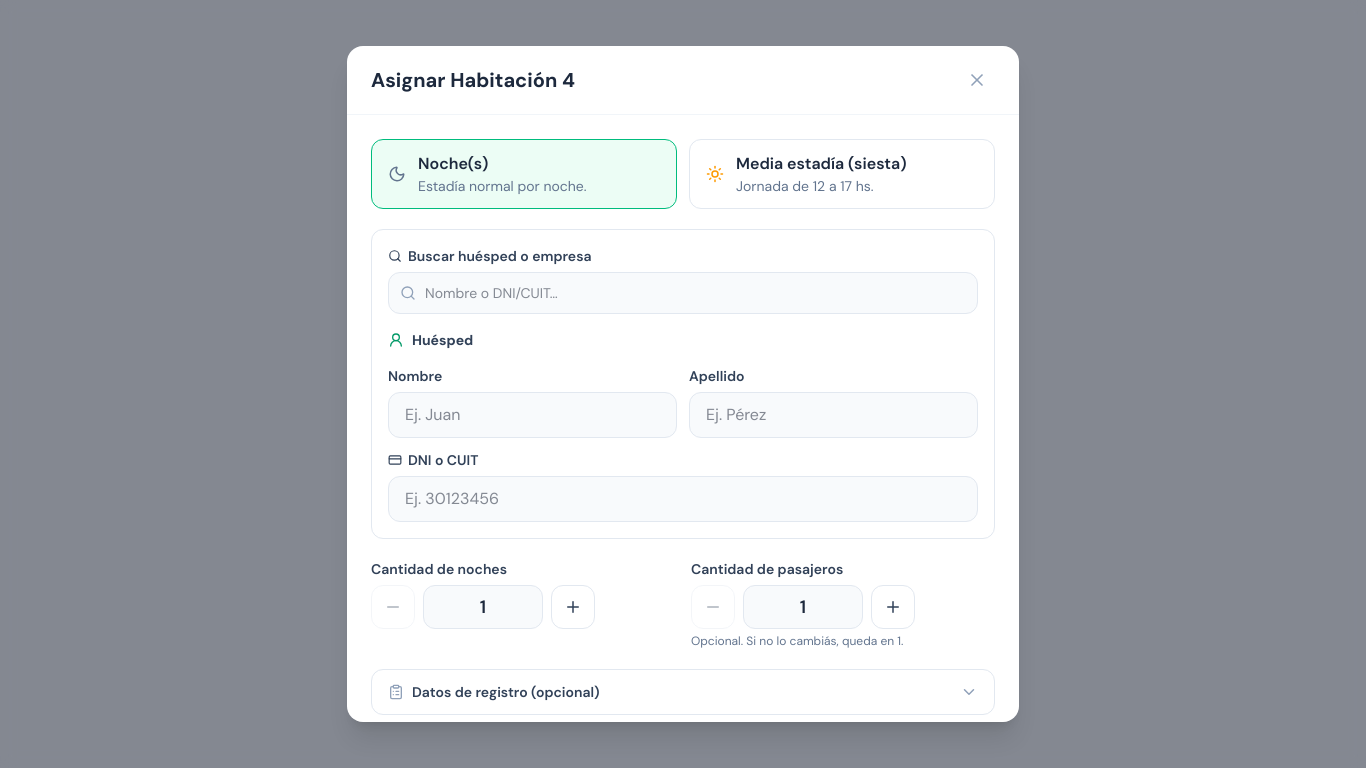
WalkInModal: el botón dice qué falta › si falta solo el DNI, el cursor va al DNI
Type "Juan" into the field labelled "Nombre".
click(532, 415); type("Juan")  # box x1=388 y1=392 x2=677 y2=438
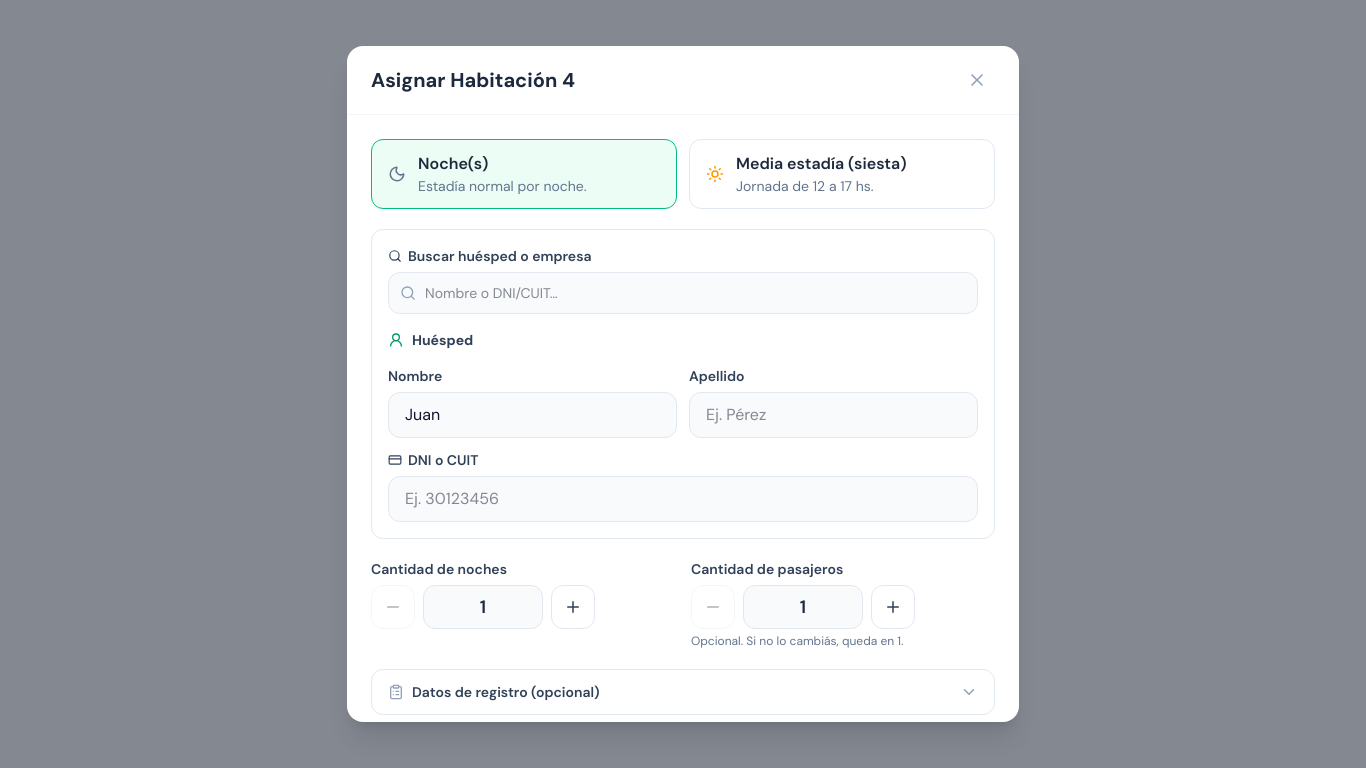
Type "Prueba" into the field labelled "Apellido".
click(834, 415); type("Prueba")  # box x1=689 y1=392 x2=978 y2=438
(page scrolled)
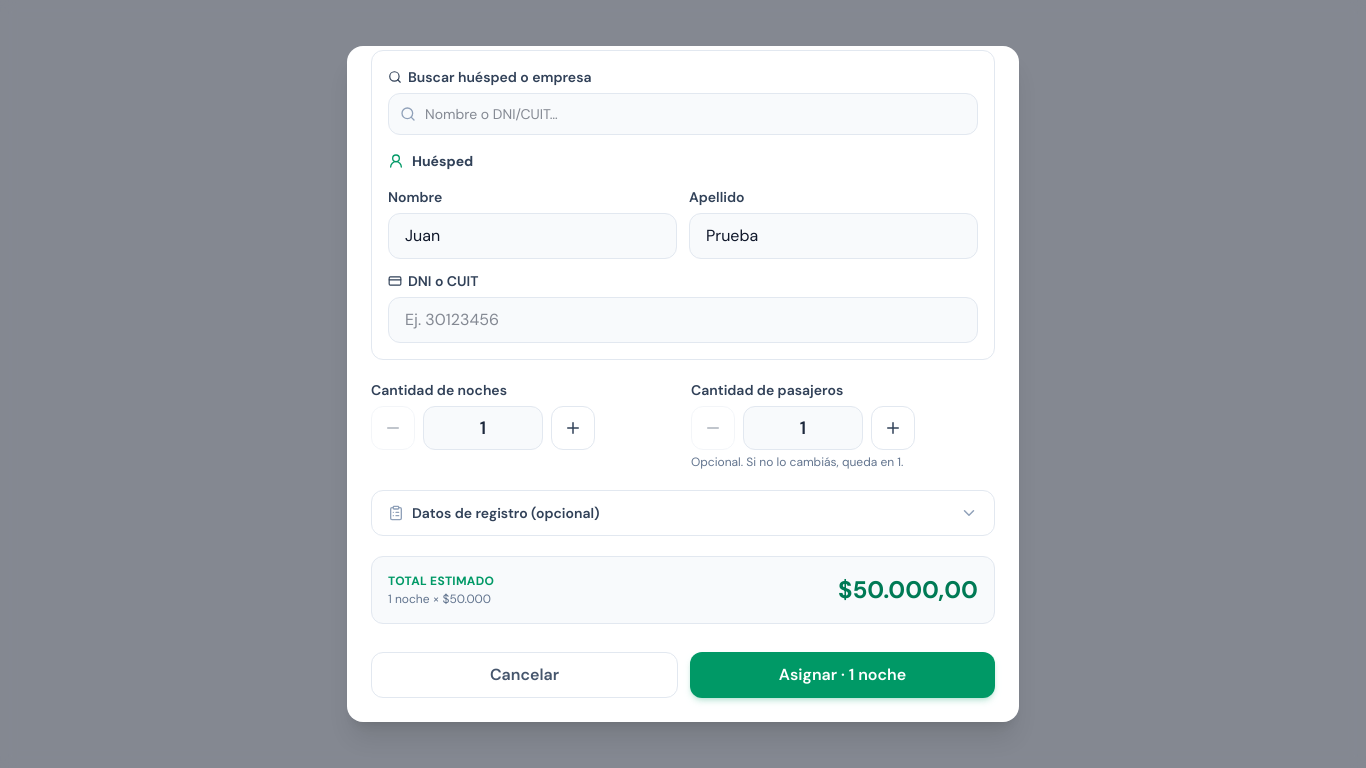
Click the submit button.
click(842, 675)  # box x1=690 y1=652 x2=995 y2=698
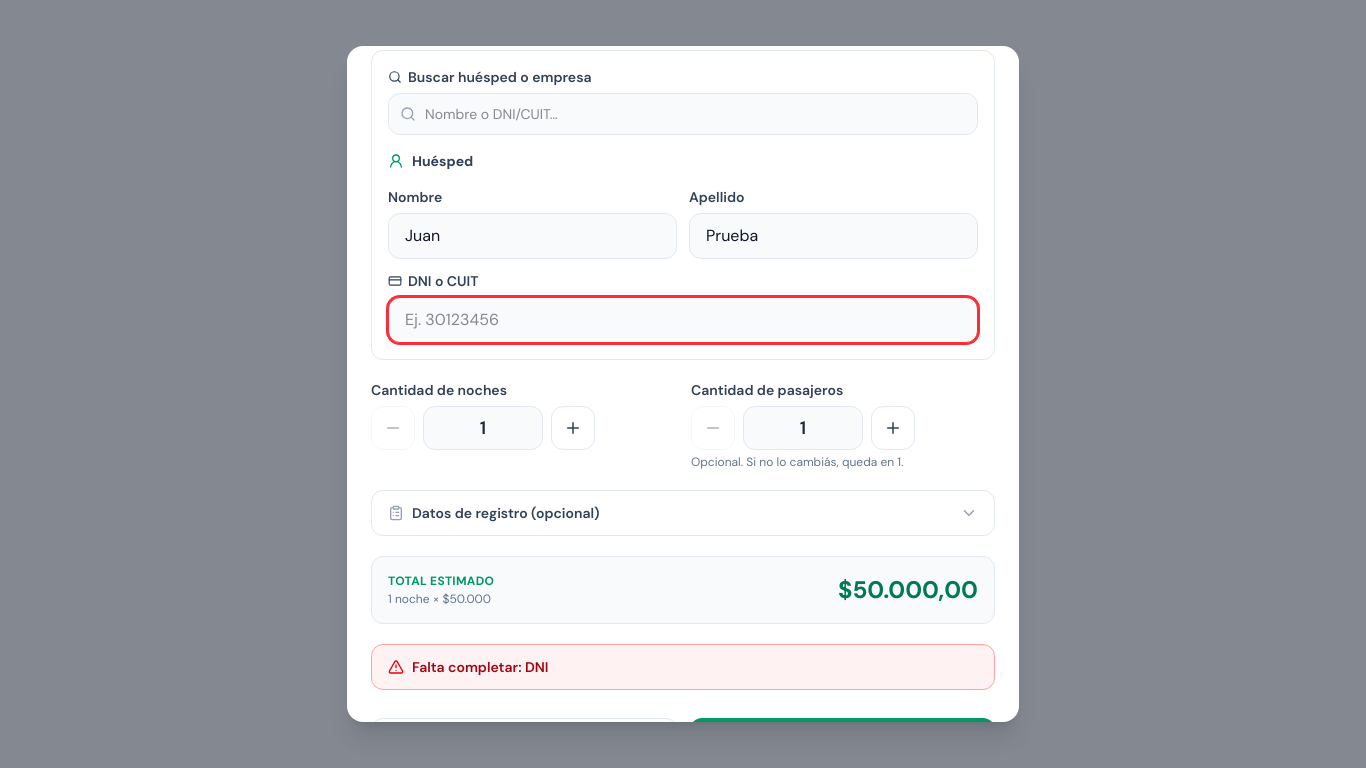
Result: the text "Falta completar: DNI" is shown at x1=412 y1=657 x2=548 y2=677
